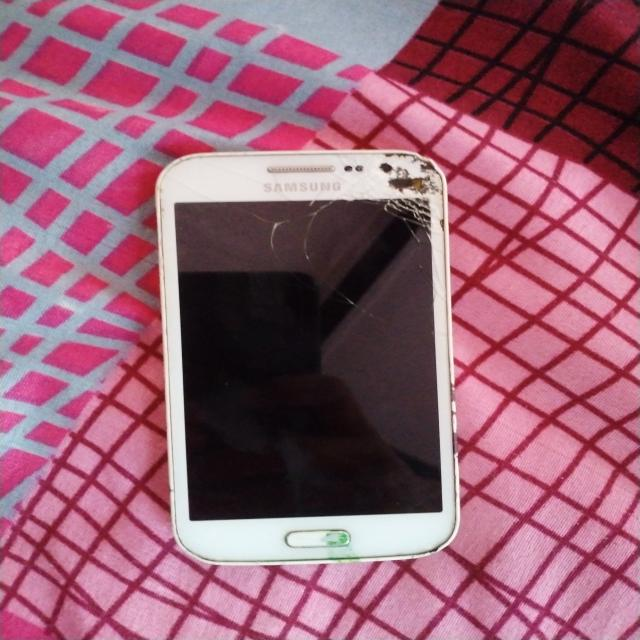Crack: (218, 152, 445, 310)
